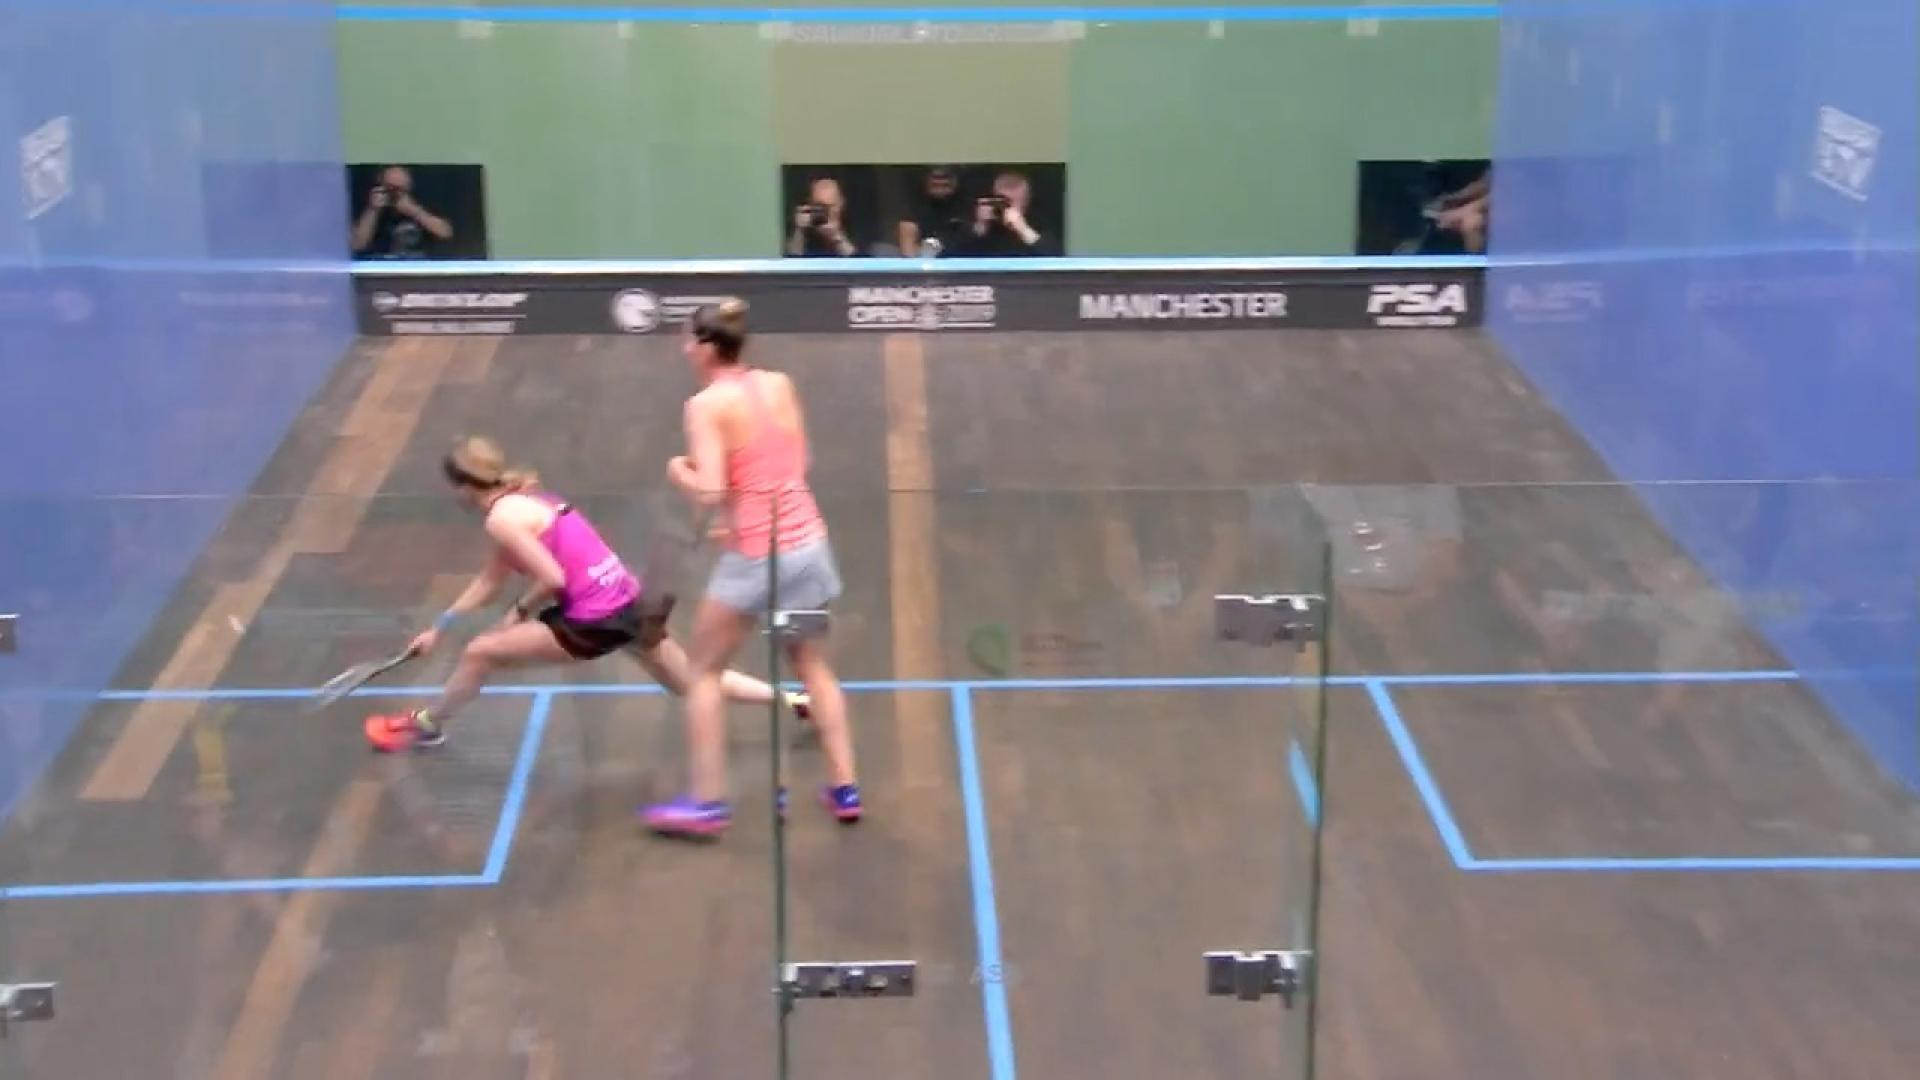Squash-Ball: (204, 595, 280, 667)
